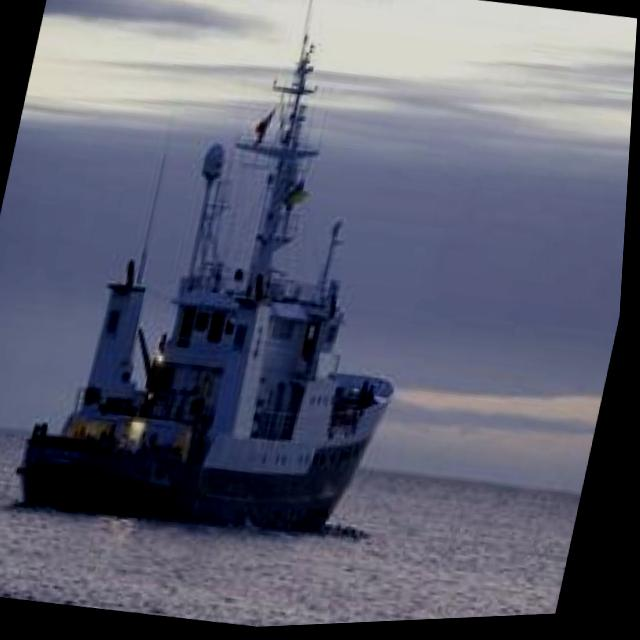ship2: (23, 0, 400, 538)
